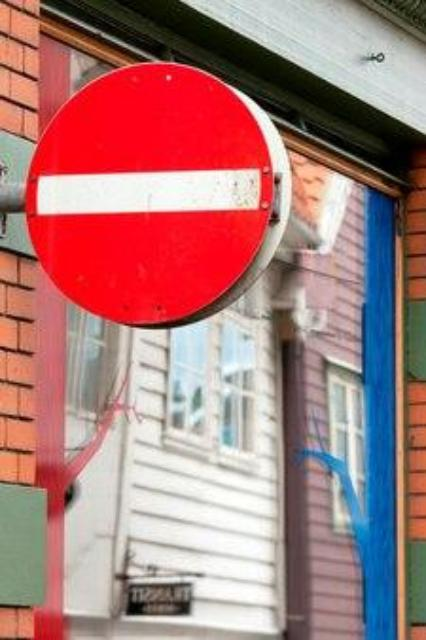B2: (21, 57, 291, 329)
